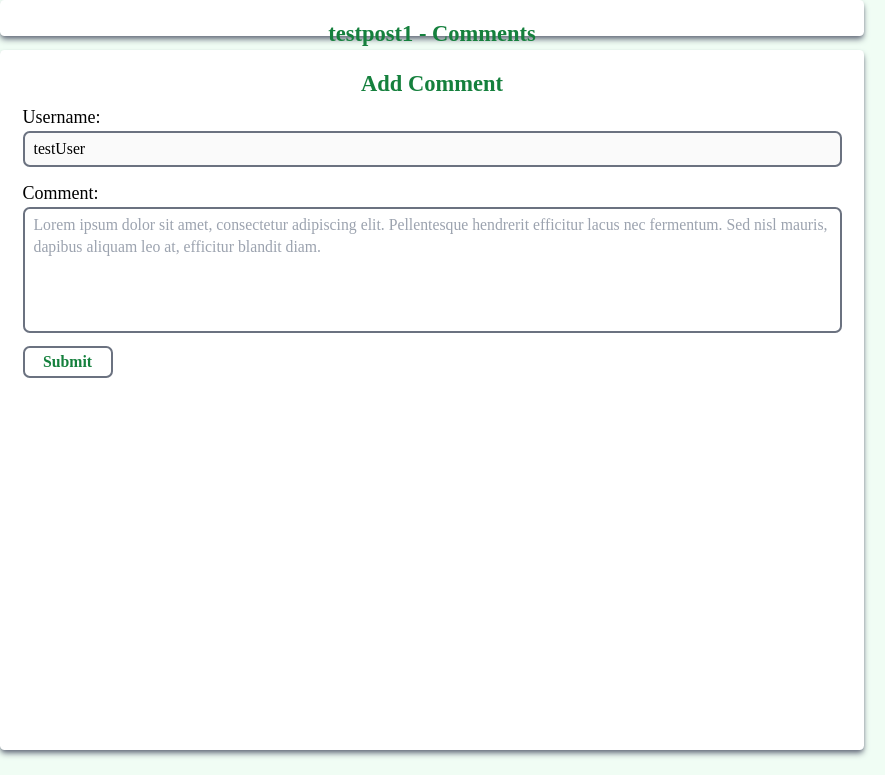
Test: CommentFormCreate tests › form interactions › inputs are registered correctly
Expected: the field labelled "Username:" holds "testUser", [22, 131, 842, 166]
Type "a" into the text box labelled "Comment:".
click(432, 270); type("a")  # box [22, 207, 842, 332]
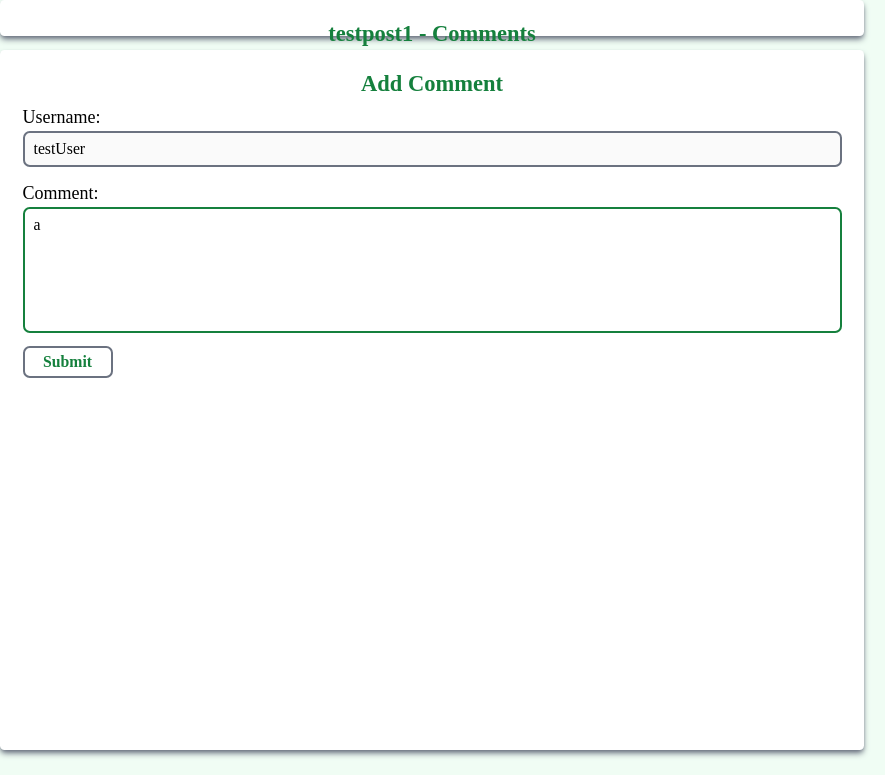
Click the button "Submit".
click(68, 362)  # box [22, 346, 112, 378]
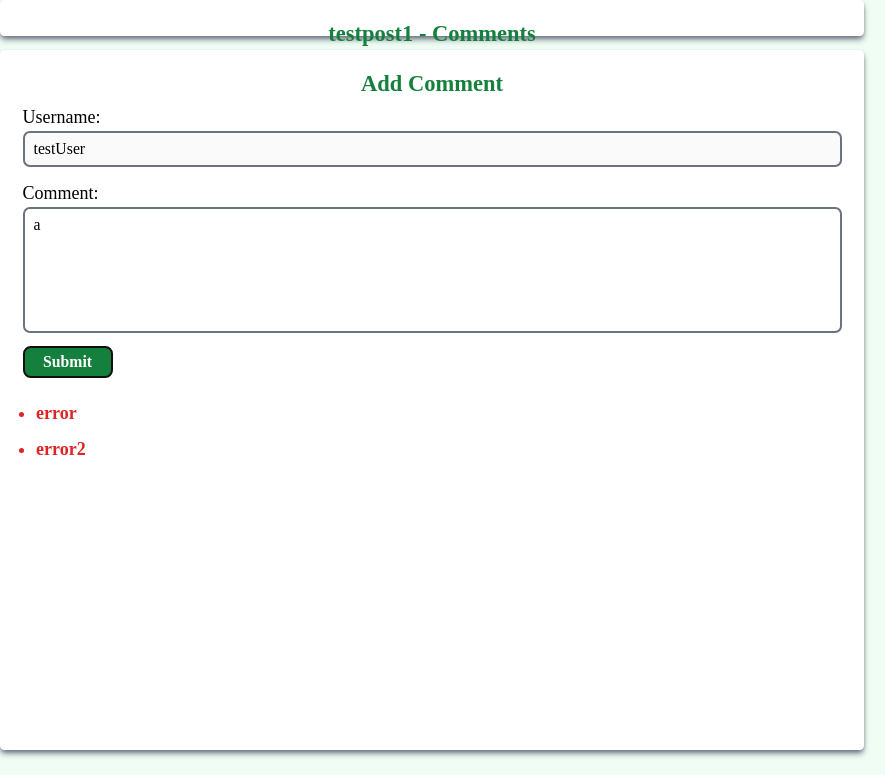
Result: the list named "errorlist" is shown at [36, 403, 86, 459]
